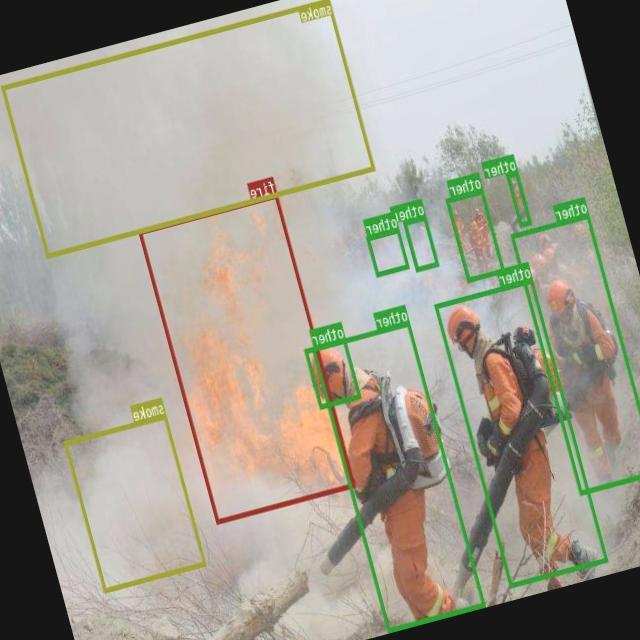fire: (138, 192, 356, 523)
smoke: (1, 0, 376, 257), (64, 412, 207, 592)
